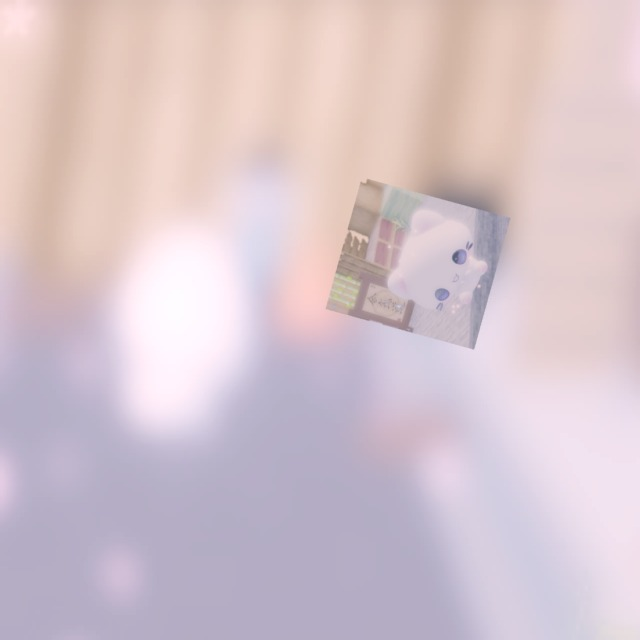urso_branco: (325, 177, 511, 350)
